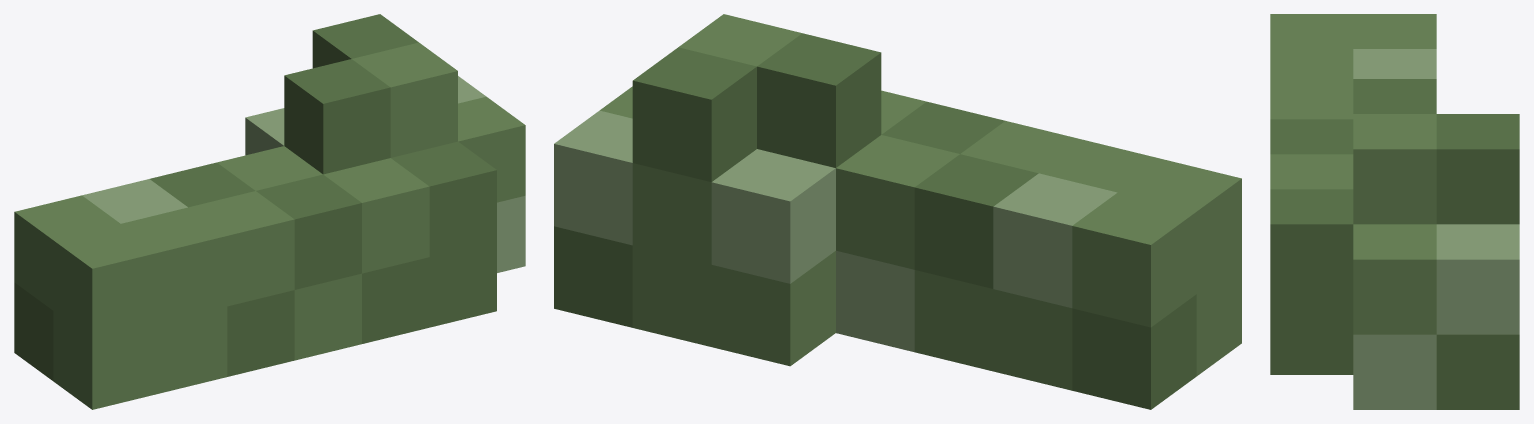
Rendered from alian_1-4.obj.
3 renders of one model, left to right at view 1: azimuth 30°, elevation 25°; view 2: azimuth 150°, elevation 25°; view 3: azimuth 270°, elevation 25°, orthographic. The views are drawn at different scales.
Bounding box in the file's own units: 0.7 × 0.3 × 0.3.
Materials: 1 (1 with a texture image).
